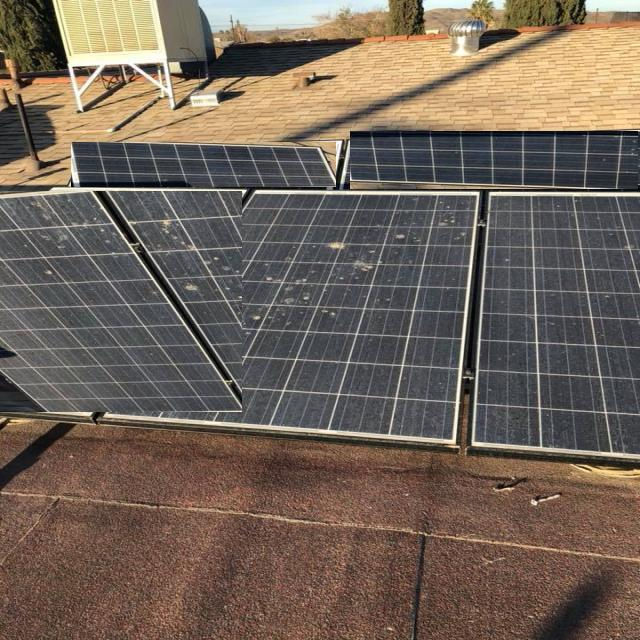Dusty: (111, 194, 475, 436), (0, 192, 242, 412), (478, 198, 640, 455)
